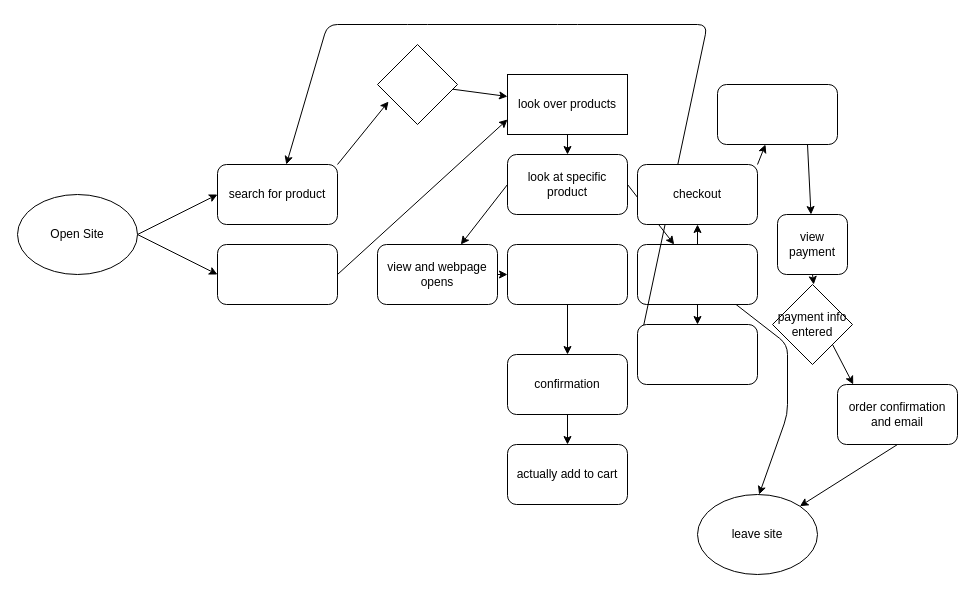
This 975x592 diagram has some shape labels left out. The shapes that lost their labels are listed below. From the top down, each one's box as (x1, y1, x2, y2) in pixels, then its label:
(376, 44, 458, 124): provide input
(716, 84, 838, 144): view cart
(216, 244, 338, 304): explore product on home
(506, 244, 628, 304): click add to cart
(636, 244, 758, 304): do not view and webpage doesnt open
(636, 324, 758, 384): continue shopping
